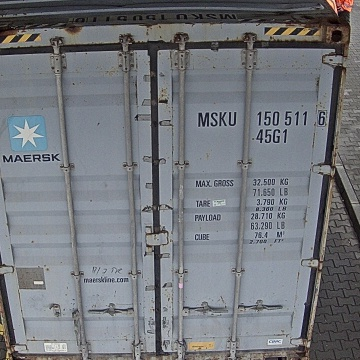serial_id: (197, 111, 326, 126)
